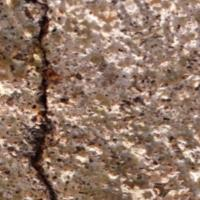crack: (20, 0, 70, 199)
